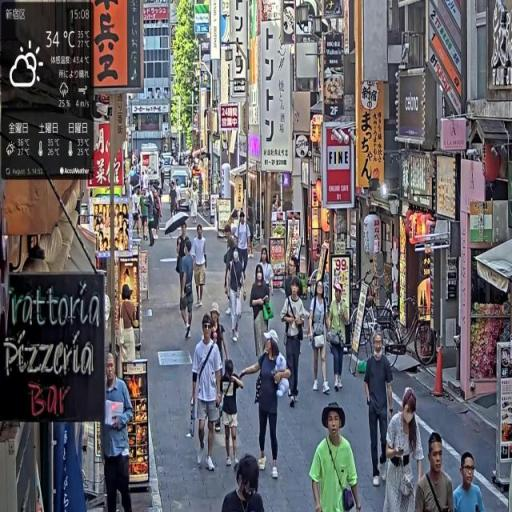person: (243, 332, 294, 480), (309, 401, 362, 511), (192, 313, 225, 475), (104, 351, 137, 512), (364, 332, 396, 491), (383, 388, 424, 512), (219, 360, 250, 473), (417, 434, 455, 512), (283, 278, 306, 406), (328, 280, 351, 395), (309, 280, 331, 397), (251, 265, 274, 364), (224, 243, 246, 342), (452, 451, 487, 512), (179, 241, 197, 341), (237, 210, 253, 294), (192, 225, 208, 309)
